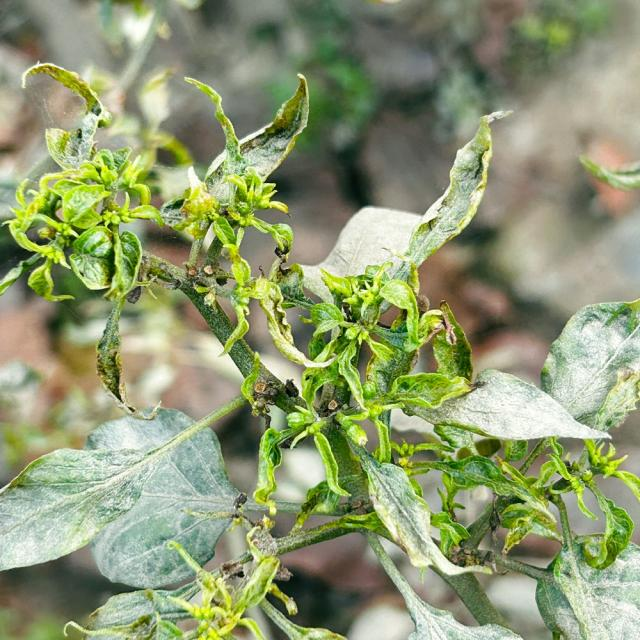Chilli_Leaf_Curl: (1, 61, 638, 638), (0, 404, 247, 591), (398, 367, 613, 443), (538, 296, 638, 432)
